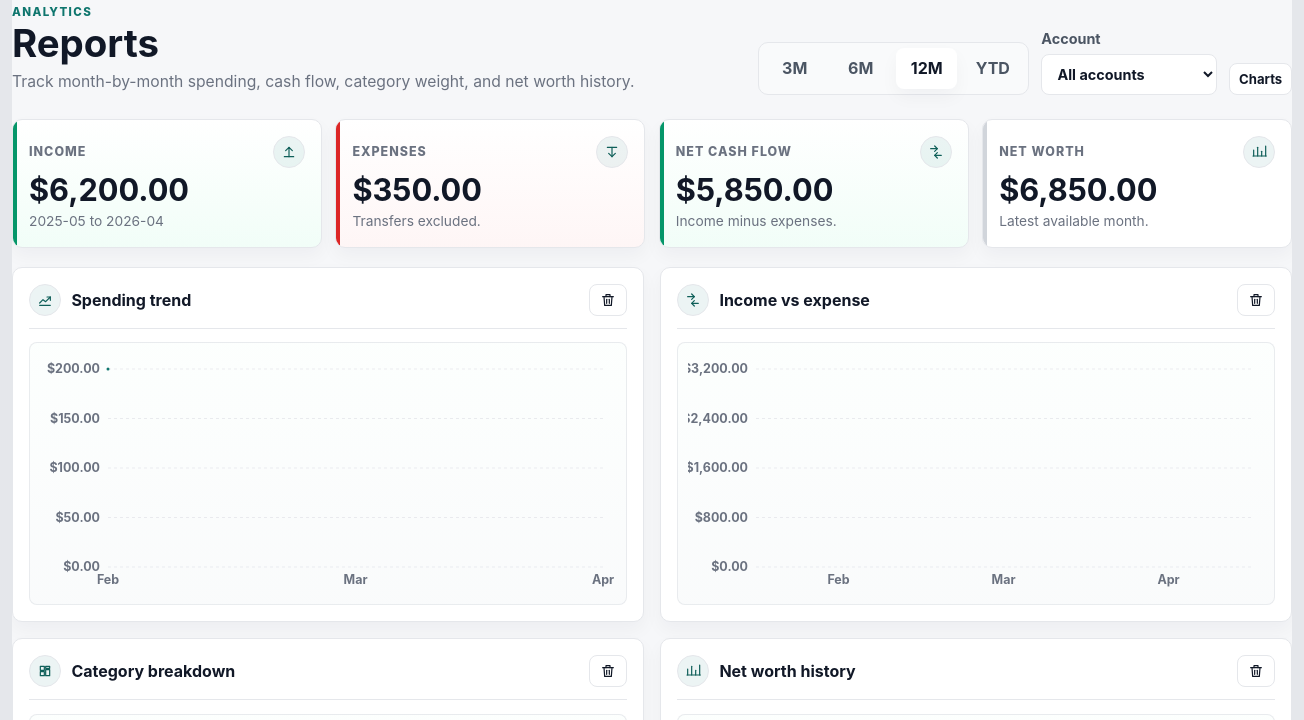
Test: ReportsPage › renders report chart customization with practical chart options
What coordinates should you click on to do the following:
click the button "Charts"
I would click on:
 (1261, 79)
Its box is [1229,63,1292,95].
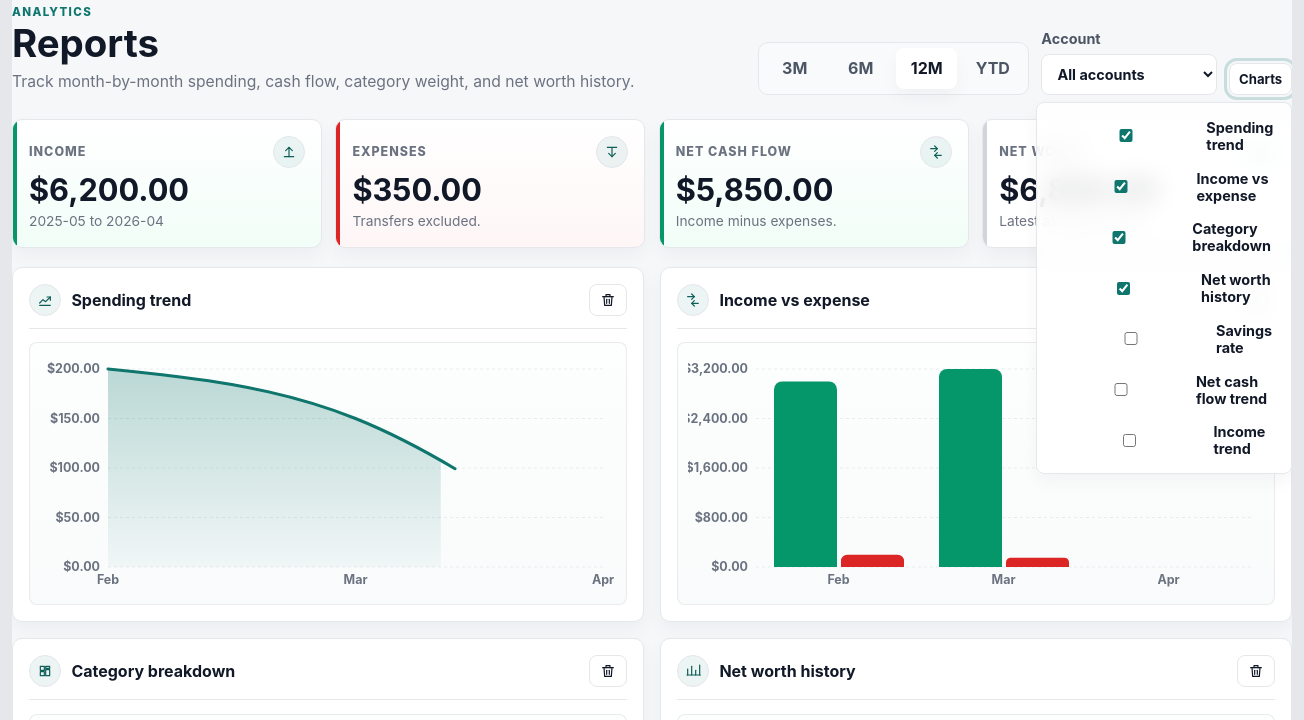
Now the checkbox labelled "Savings rate" is shown, box [1059,332,1203,345]
Now the checkbox labelled "Net cash flow trend" is shown, box [1059,383,1182,396]
Now the checkbox labelled "Income trend" is shown, box [1059,434,1200,447]
